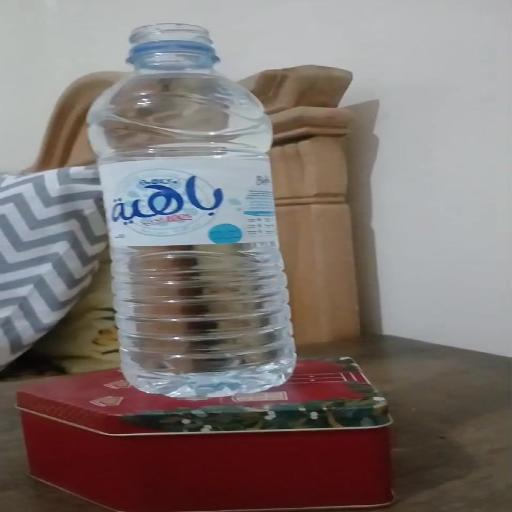bouteille non conformite: (66, 18, 327, 414), (107, 25, 260, 73)
